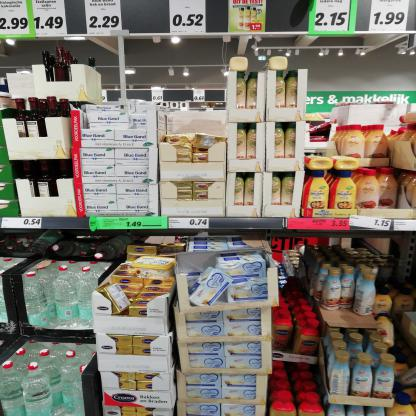prtg: (85, 1, 123, 35), (370, 1, 411, 32), (33, 1, 68, 36), (170, 1, 207, 34), (315, 1, 351, 32), (1, 1, 31, 36), (289, 219, 351, 231), (350, 216, 392, 231), (170, 219, 210, 230), (2, 219, 43, 229), (104, 218, 143, 228), (395, 220, 416, 232)
